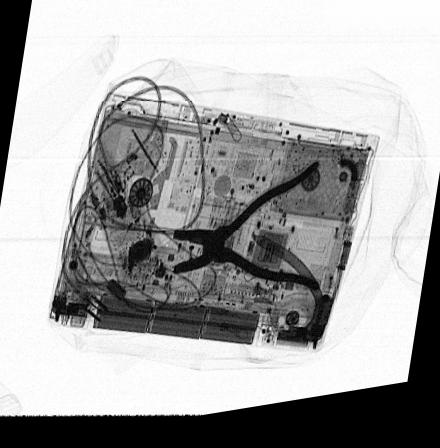Pliers: (172, 168, 321, 304)
